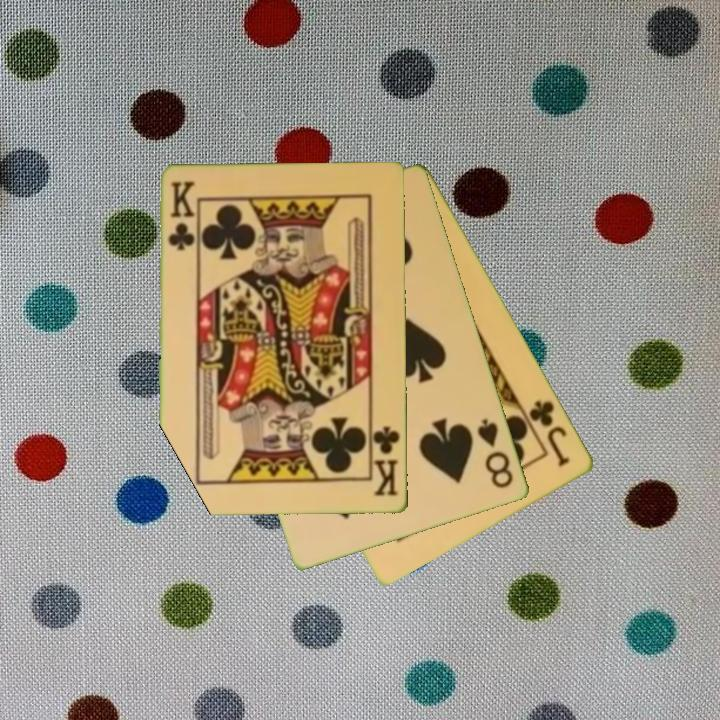8s: (474, 415, 517, 492)
Jc: (526, 397, 574, 470)
Kc: (368, 419, 403, 499), (165, 178, 196, 254)
